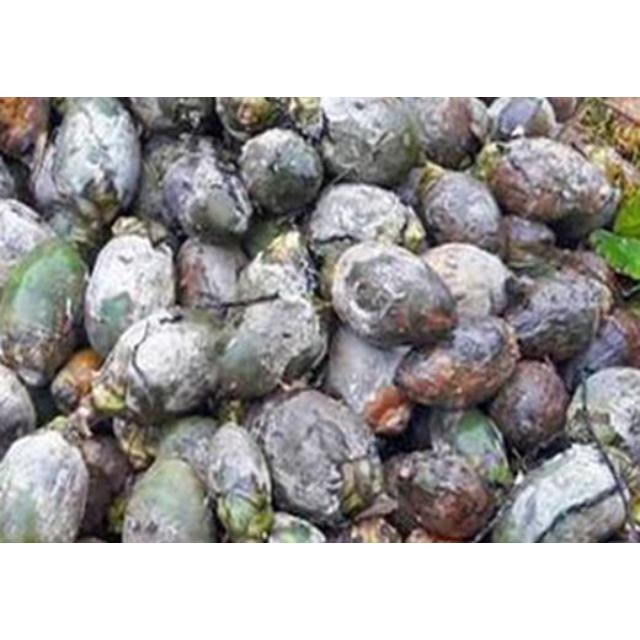damaged: (244, 388, 378, 528), (332, 240, 468, 346), (40, 98, 140, 240), (485, 136, 615, 240), (105, 312, 222, 423), (0, 236, 90, 380), (492, 448, 626, 540), (212, 294, 324, 402), (83, 232, 177, 358), (303, 182, 421, 274), (0, 429, 90, 541), (387, 449, 495, 541), (316, 97, 426, 187), (158, 142, 252, 242), (506, 270, 604, 364), (322, 328, 411, 424), (206, 421, 274, 544), (413, 165, 505, 252), (416, 242, 516, 322), (237, 128, 325, 218), (121, 458, 215, 542), (488, 360, 570, 456), (232, 230, 322, 314), (174, 235, 250, 313), (406, 98, 489, 168), (484, 98, 556, 140)
